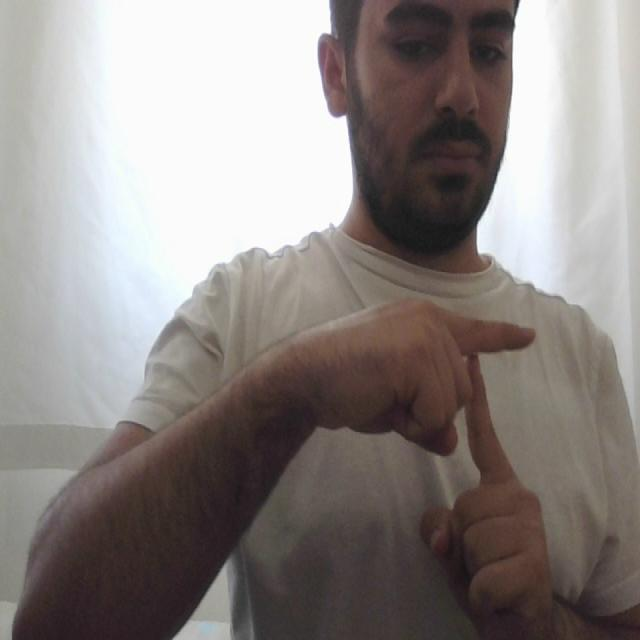Tesekkurler: (427, 290, 542, 509)
